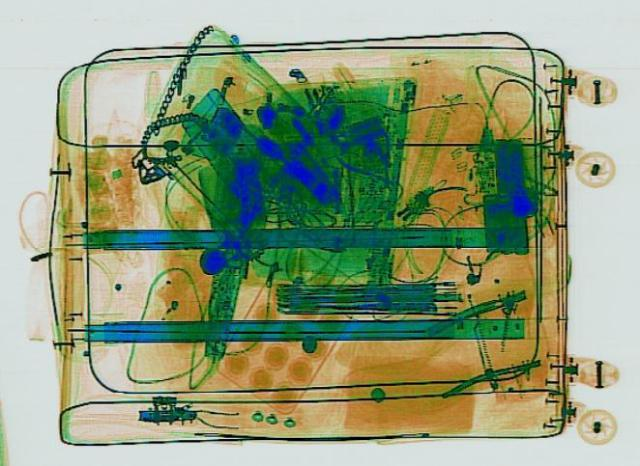Pliers: (329, 132, 423, 196)
